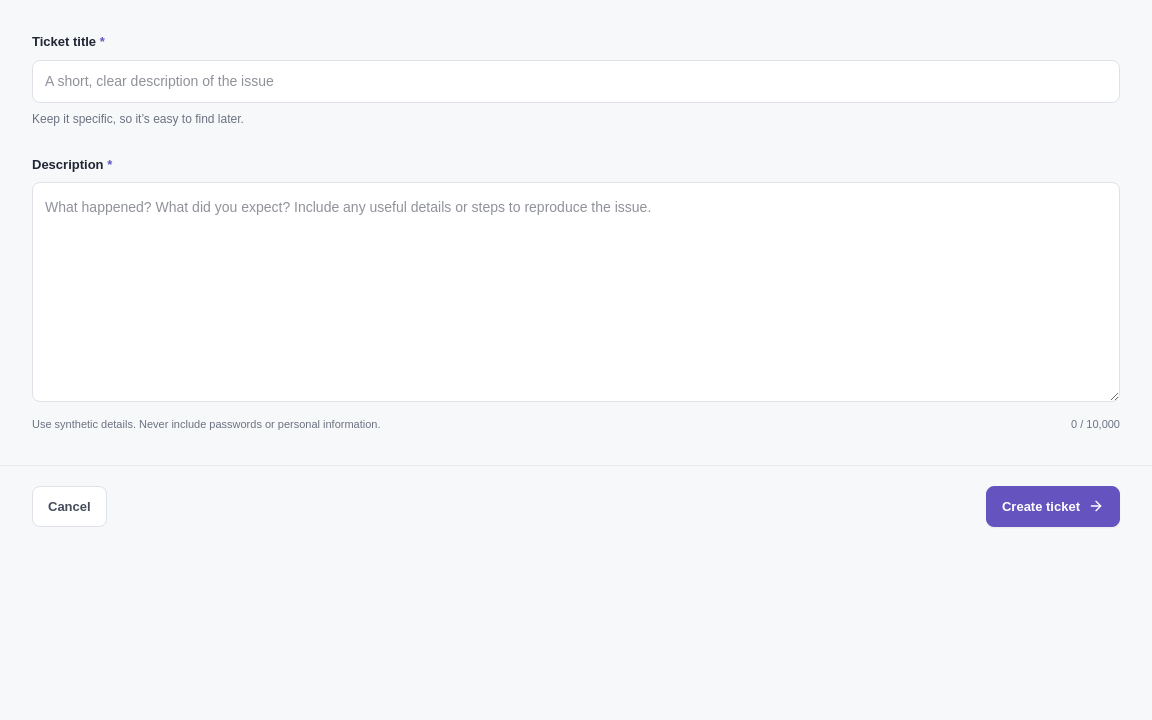
Test: shows accessible validation errors for empty fields
What coordinates should you click on to do the following:
click the button "Create ticket"
I would click on:
 (1053, 506)
Its box is [986,486,1120,527].
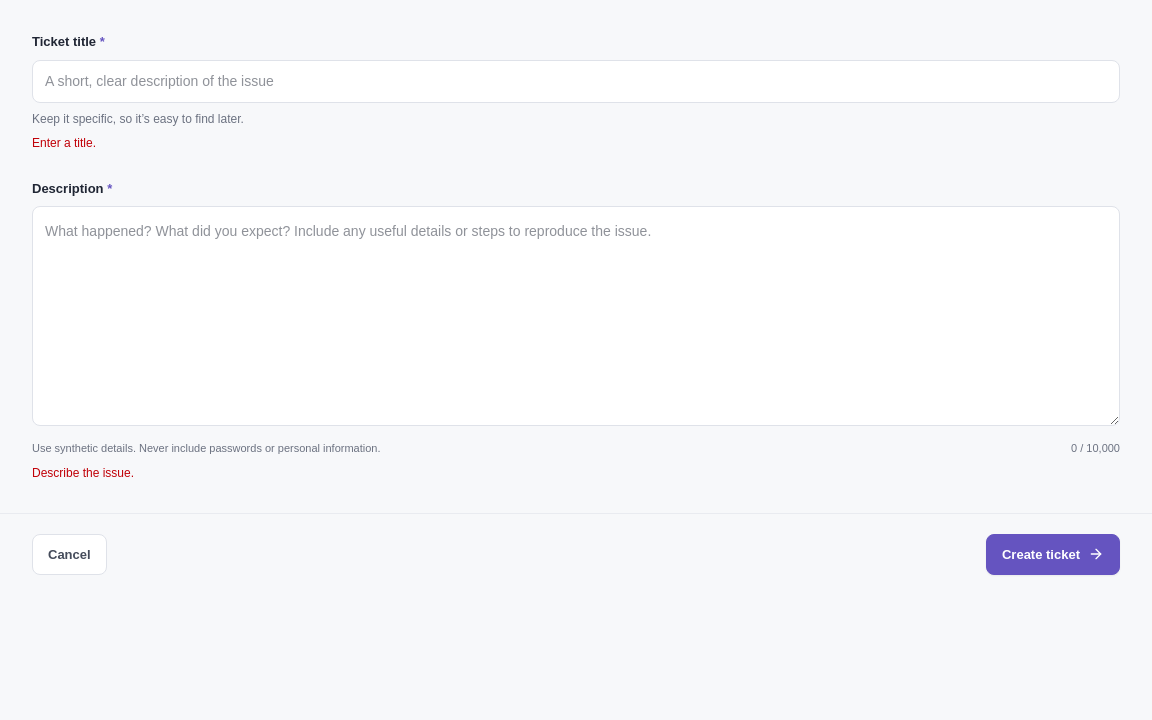
Check: the text "Enter a title." is shown, box [32,136,96,150]
Check: the text "Describe the issue." is shown, box [32,466,134,480]
